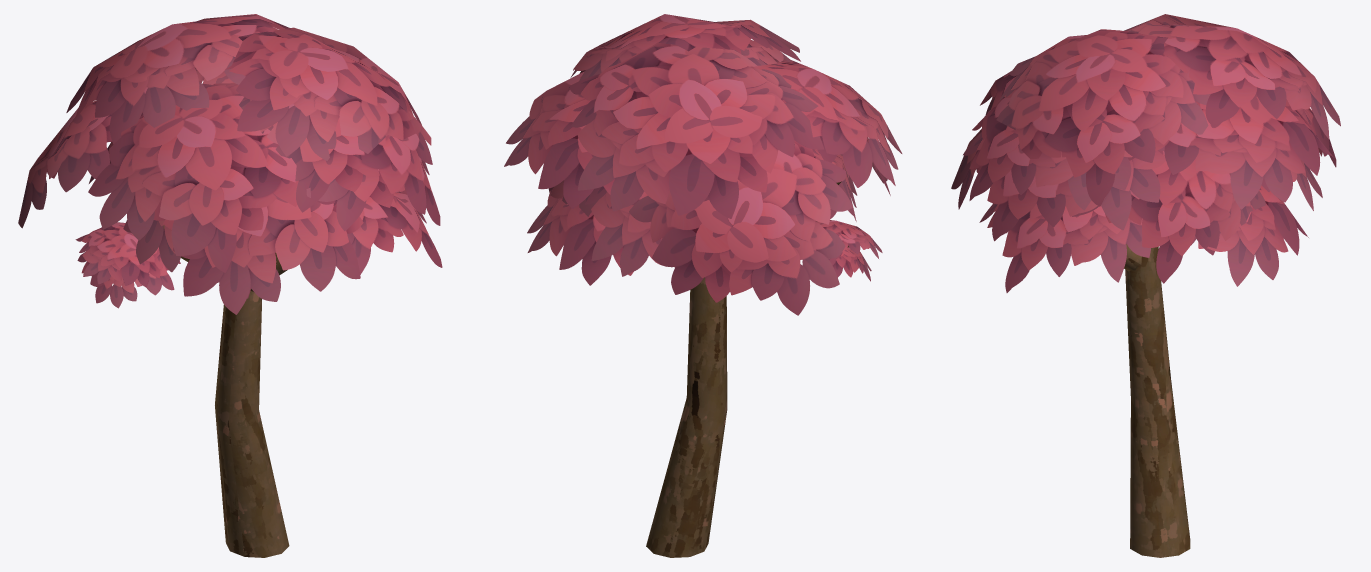
The model's file is tree_5.gltf.
3 views of the same model, side by side, from view 1: azimuth 30°, elevation 25°; view 2: azimuth 150°, elevation 25°; view 3: azimuth 270°, elevation 25° (orthographic).
Parts seen in each view (by area): view 1: Tree_1; view 2: Tree_1; view 3: Tree_1.
Boxes of the visible parts, bbox=[...] form: Tree_1: bbox=[18, 14, 442, 557]; Tree_1: bbox=[504, 14, 902, 557]; Tree_1: bbox=[951, 14, 1340, 557].
Bounding box in the file's own units: 4.14 × 5.54 × 4.13.
2 materials, 2 textured.
